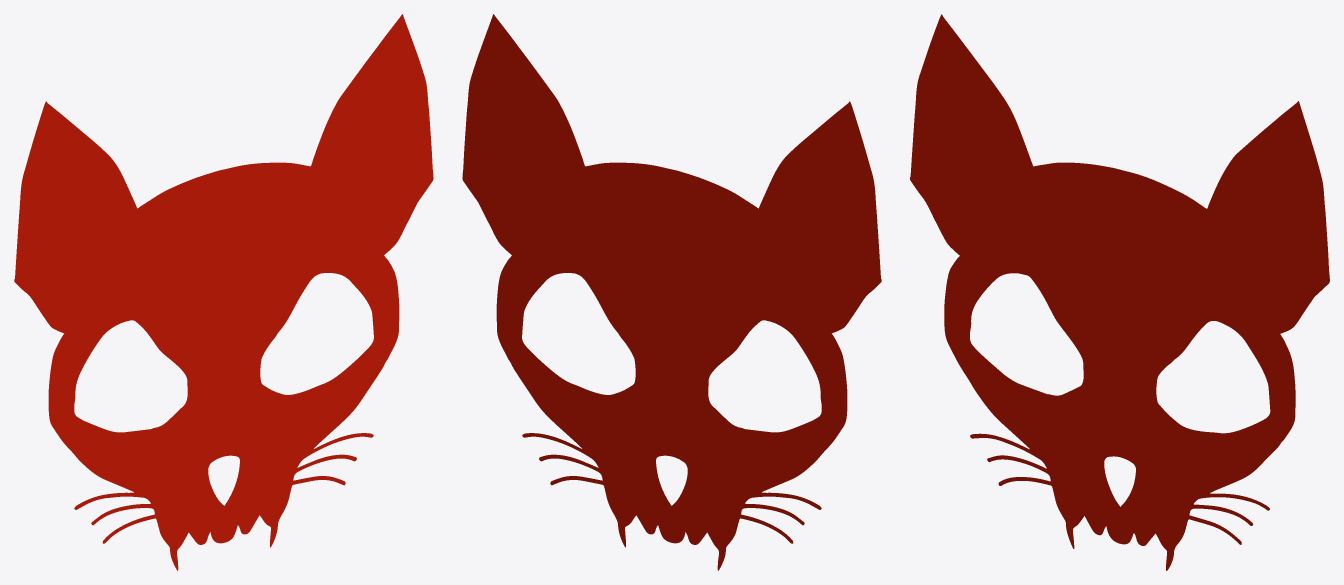
The model's file is virus-base.glb.
The picture shows the model from 3 angles, left to right: view 1: azimuth 30°, elevation 25°; view 2: azimuth 150°, elevation 25°; view 3: azimuth 330°, elevation 25°; orthographic projection.
Visible parts, largest first — view 1: Curve; view 2: Curve; view 3: Curve.
Part boxes in pixels (left/top/right/bottom): Curve: left=14, top=14, right=433, bottom=570; Curve: left=462, top=14, right=881, bottom=570; Curve: left=910, top=14, right=1329, bottom=570.
Size of the model in its own units: 3.36 by 3.85 by 0.
